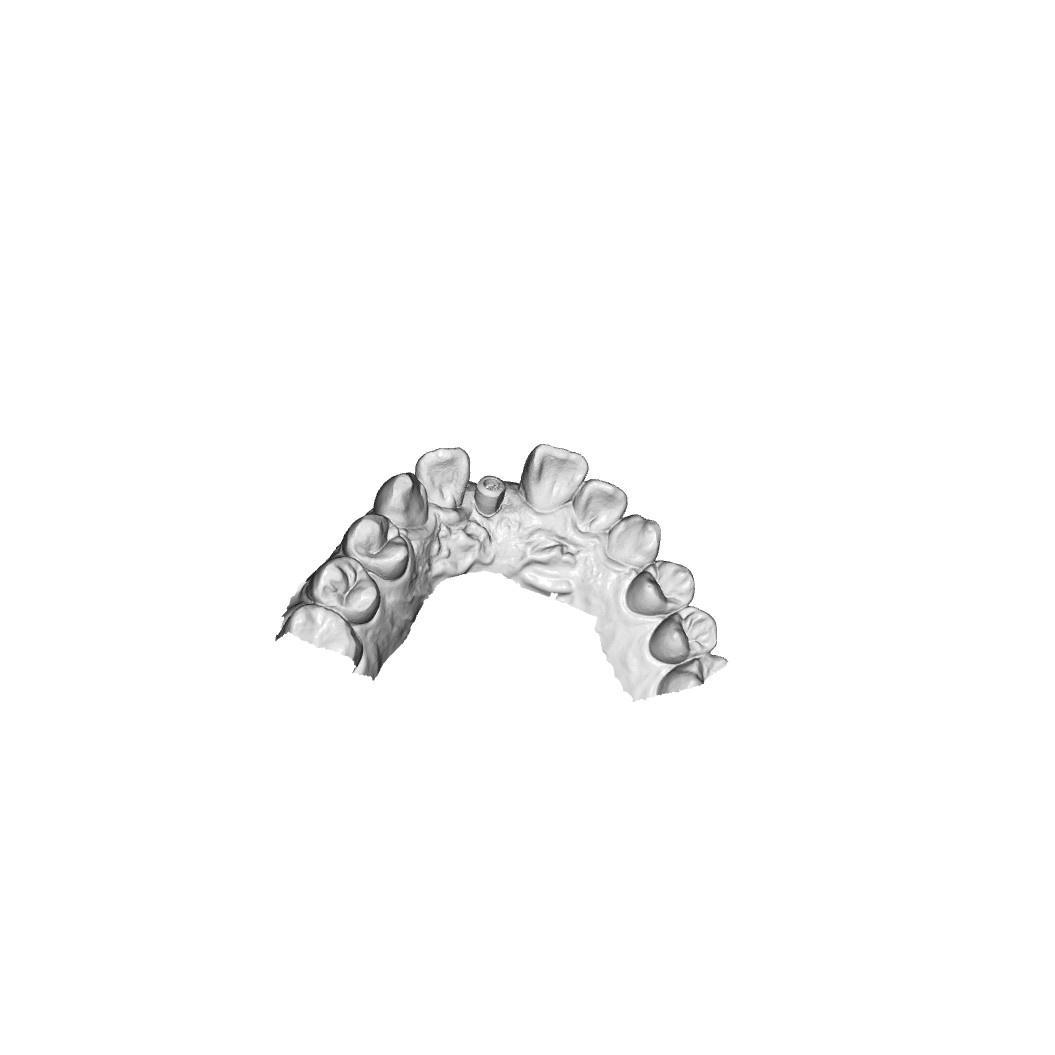canine: (376, 469, 433, 533), (605, 511, 667, 567)
implant: (474, 473, 506, 513)
incisor: (521, 442, 589, 512), (415, 446, 473, 510), (572, 477, 628, 531)
premolar: (305, 553, 380, 624), (345, 511, 413, 583), (648, 600, 721, 666), (625, 563, 701, 618)
